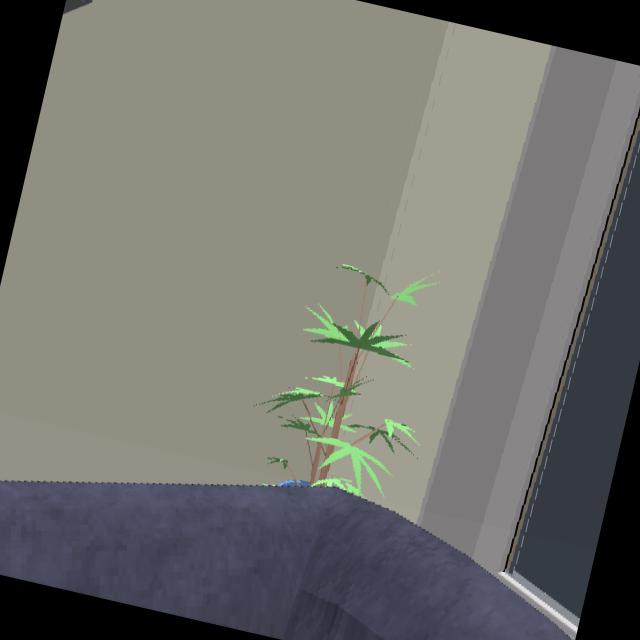sofa: (0, 483, 571, 640)
